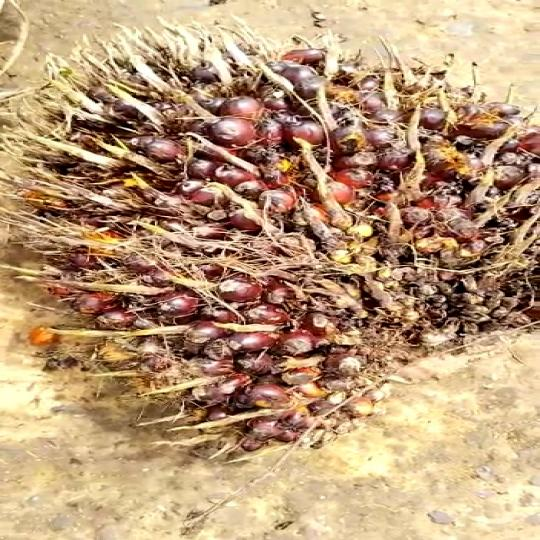masak: (22, 33, 540, 465)
